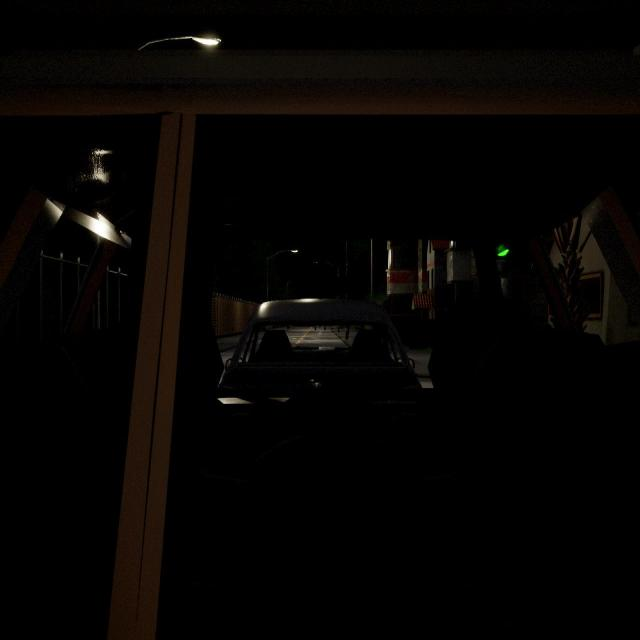Vehicle: (3, 54, 640, 640), (207, 291, 424, 424)
traffic_light: (494, 235, 511, 277)
